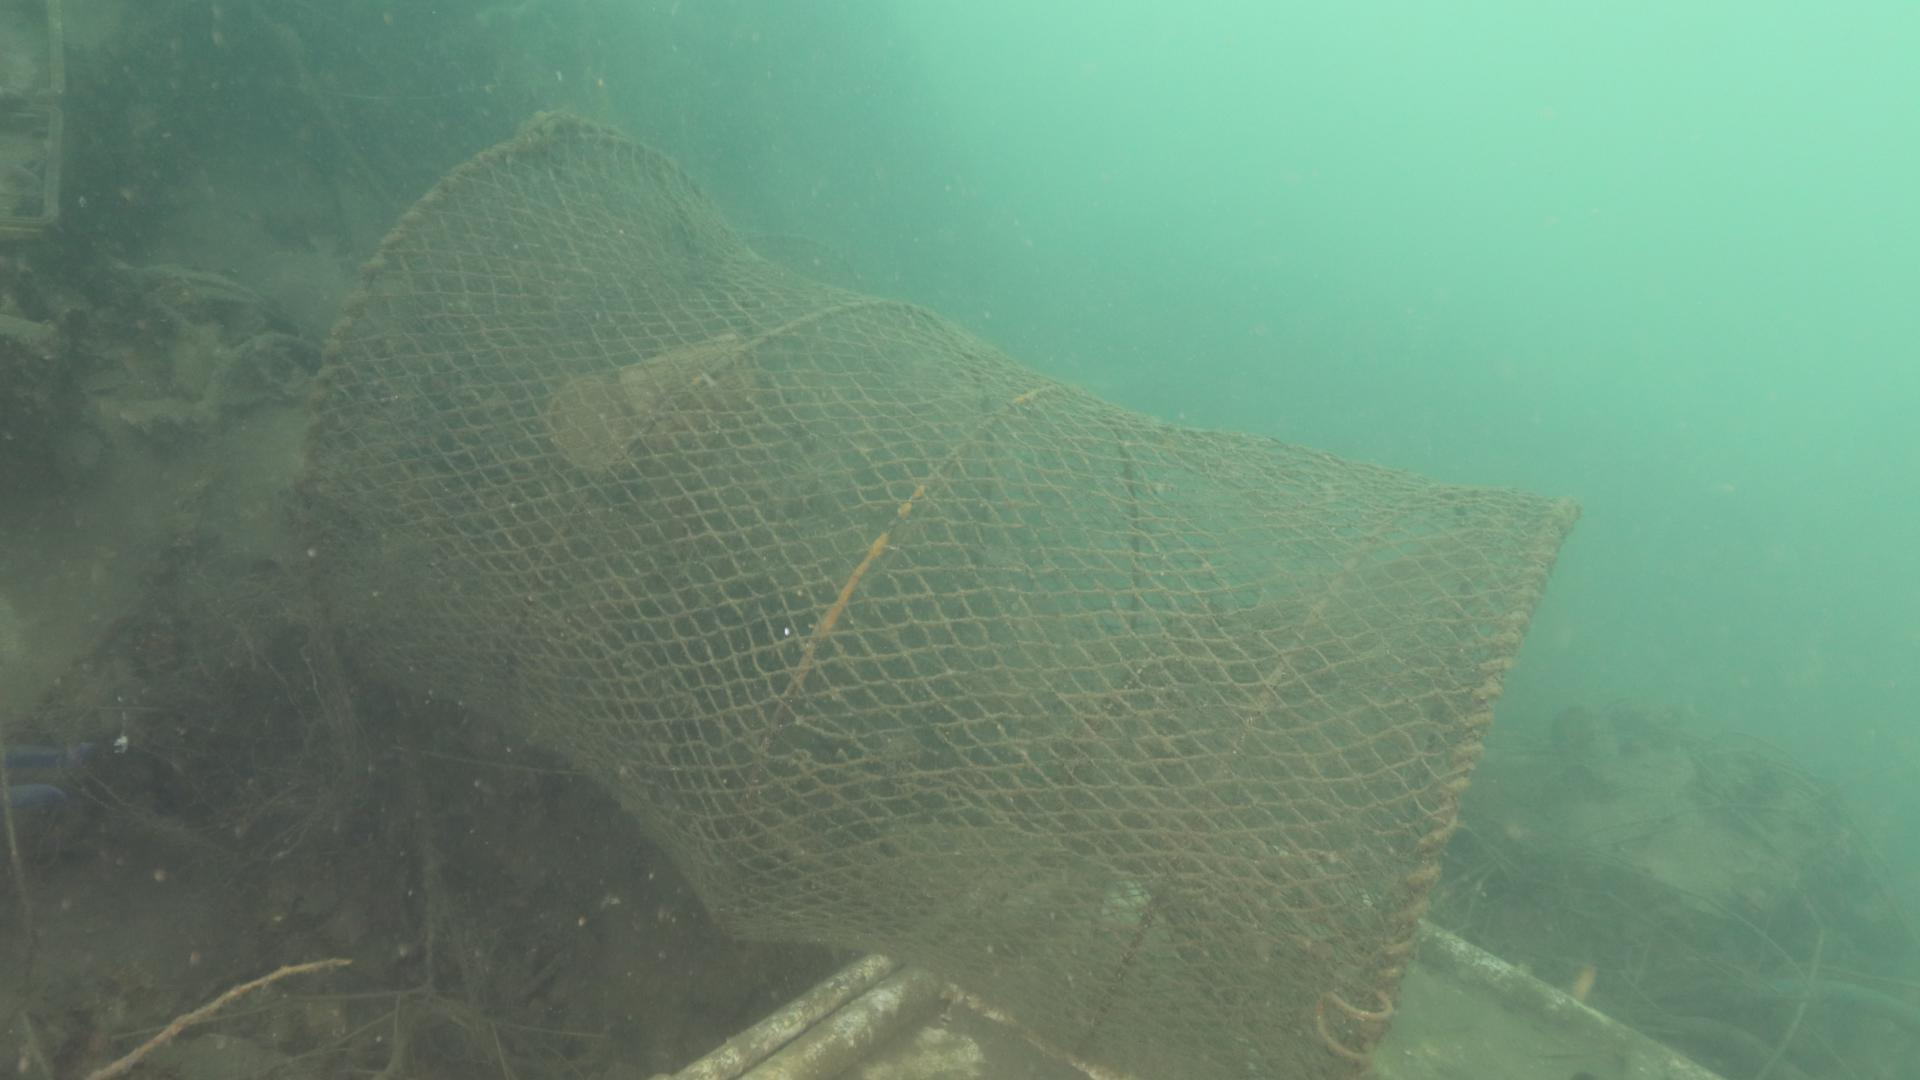spring fish trap: (284, 105, 1584, 1080)
